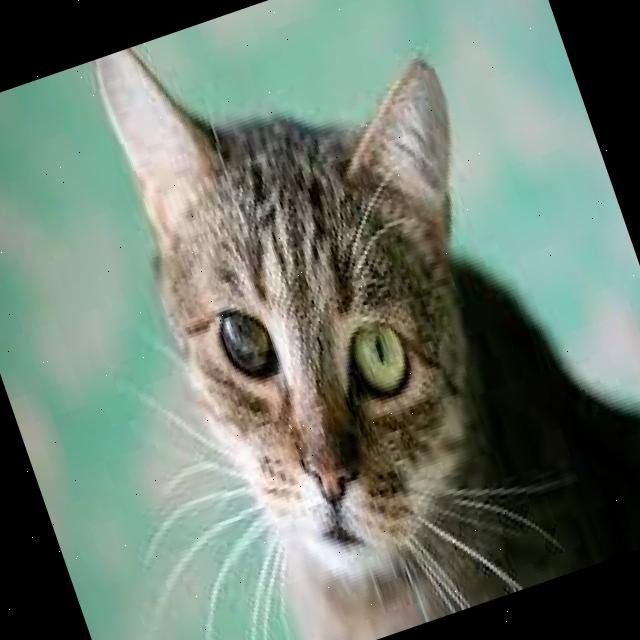cat-eye: (207, 290, 290, 395)
cat-eye-normal: (328, 303, 422, 413)
